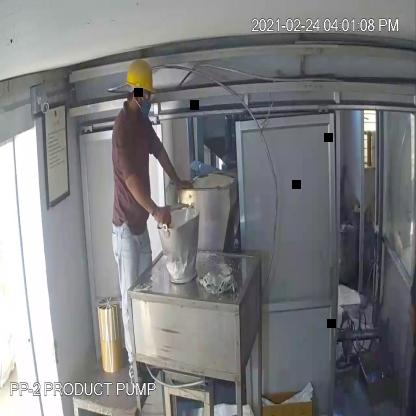helmet: (122, 55, 158, 91)
